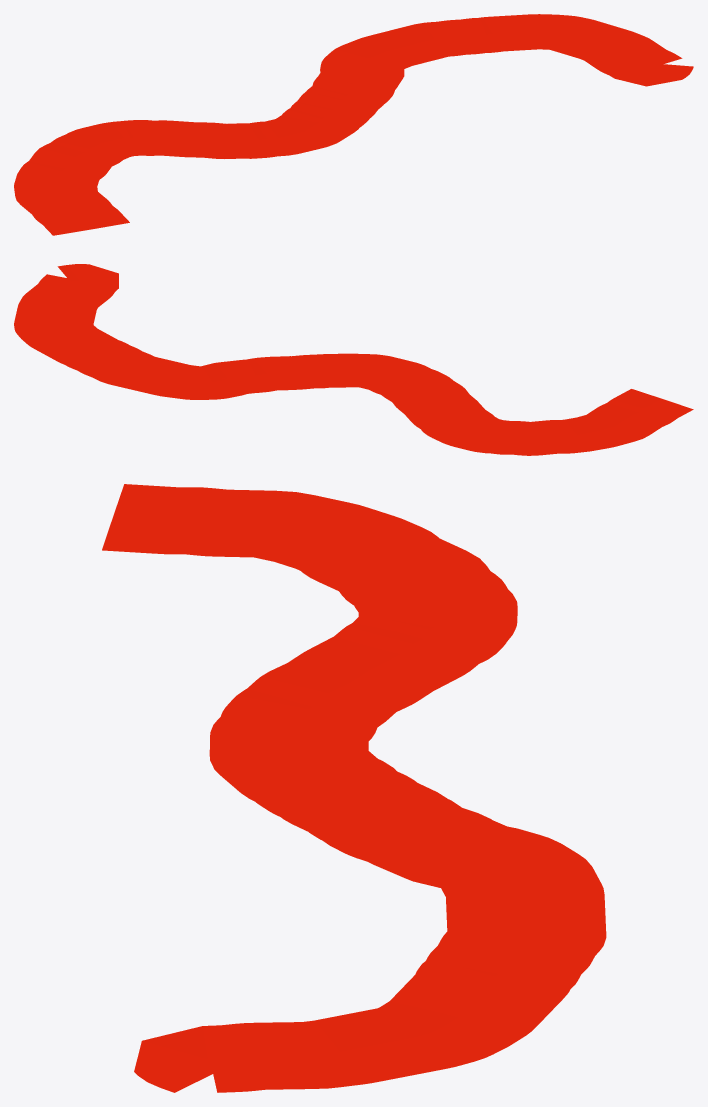
3 renders of one model, top to bottom at view 1: azimuth 30°, elevation 25°; view 2: azimuth 150°, elevation 25°; view 3: azimuth 270°, elevation 25°, orthographic. The views are drawn at different scales.
Parts seen in each view (by area): view 1: GP_Layer; view 2: GP_Layer; view 3: GP_Layer.
Part boxes in pixels (box(x1,y1,x2,y2)): GP_Layer: box(14, 14, 693, 235); GP_Layer: box(14, 264, 693, 455); GP_Layer: box(102, 484, 606, 1092).
Size of the model in its own units: 0.1055 by 0.037 by 4.53e-05.
